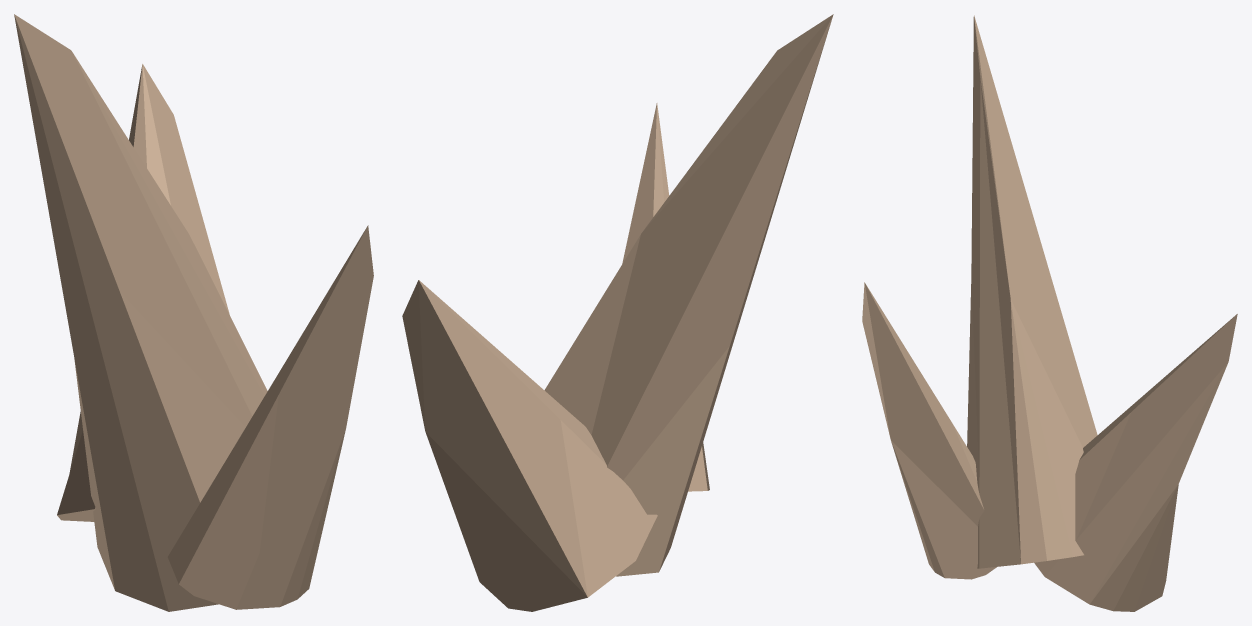
Rendered from Grass.fbx.
3 renders of one model, left to right at view 1: azimuth 30°, elevation 25°; view 2: azimuth 150°, elevation 25°; view 3: azimuth 270°, elevation 25°, orthographic. The views are drawn at different scales.
Parts seen in each view (by area): view 1: grass; view 2: grass; view 3: grass.
Part boxes in pixels (<box>): grass: <box>14,14,373,611</box>; grass: <box>402,14,833,611</box>; grass: <box>862,15,1237,611</box>.
Bounding box in the file's own units: 0.4358 × 0.8153 × 0.5654.
